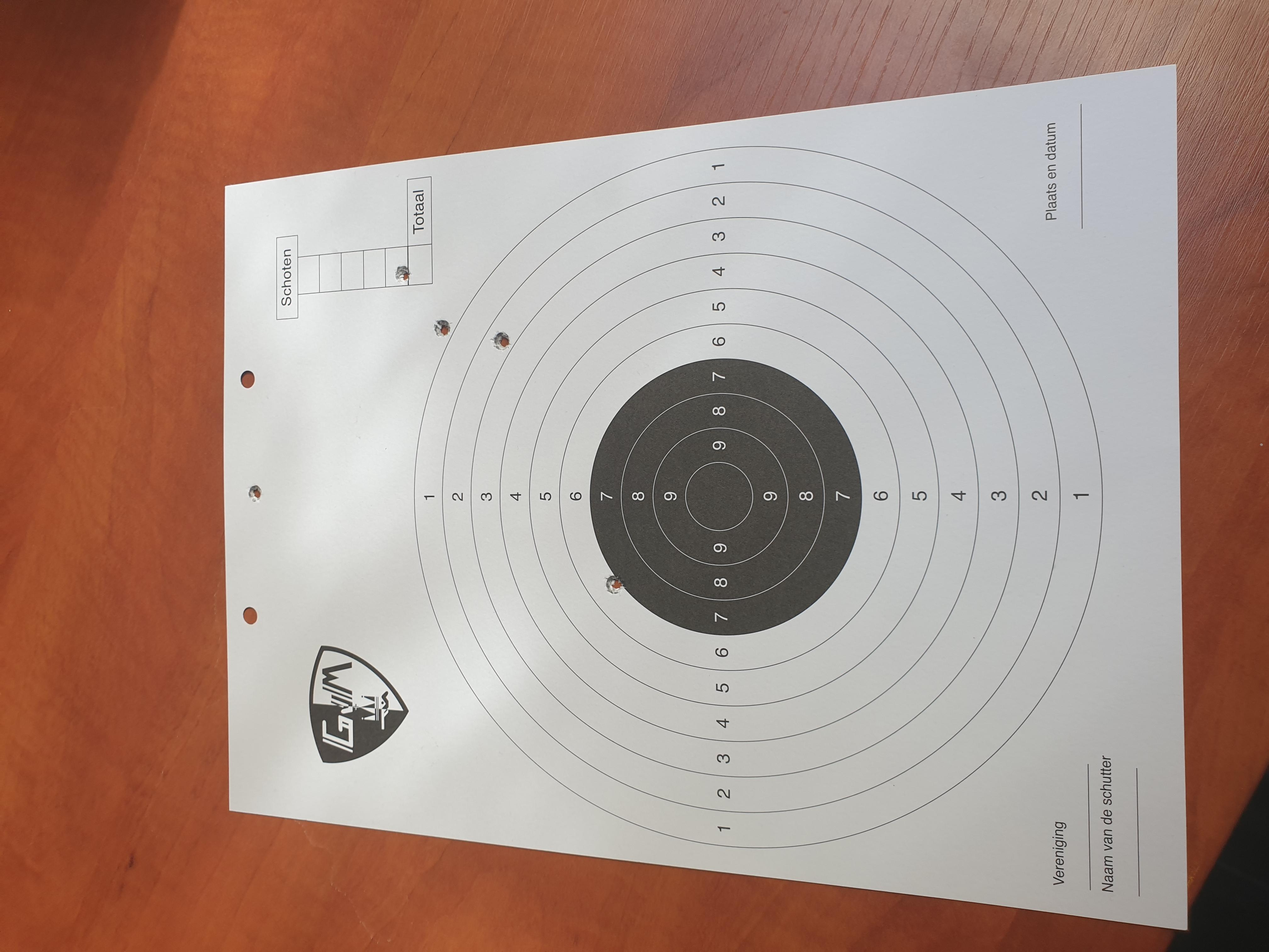hole: (474, 453, 506, 469), (799, 368, 829, 385), (819, 324, 845, 340), (889, 295, 917, 309), (599, 185, 623, 198)
